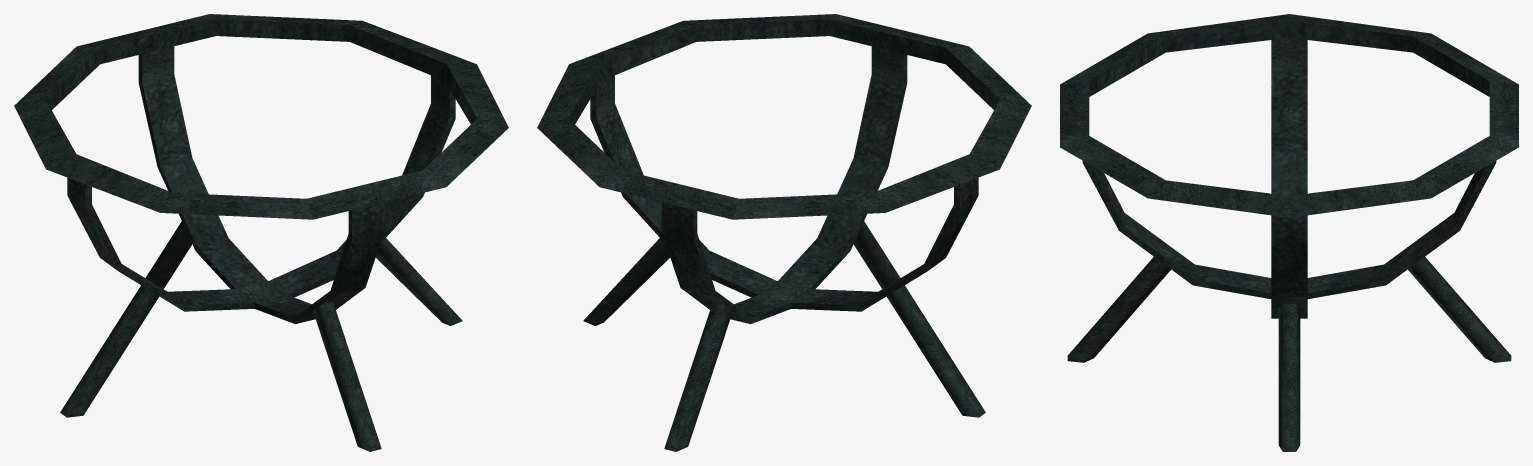
Rendered from edb_con_tato_basket_s02_l0.fbx.
3 views of the same model, side by side, from view 1: azimuth 30°, elevation 25°; view 2: azimuth 150°, elevation 25°; view 3: azimuth 270°, elevation 25° (orthographic). The views are drawn at different scales.
Visible parts, largest first — view 1: mesh_node; view 2: mesh_node; view 3: mesh_node.
Boxes of the visible parts, x1,y1,x2,y2 form: mesh_node: (14,14,508,451); mesh_node: (537,14,1031,451); mesh_node: (1060,14,1518,451).
Bounding box in the file's own units: 1.26 × 0.7185 × 1.2.
1 material, 1 textured.
